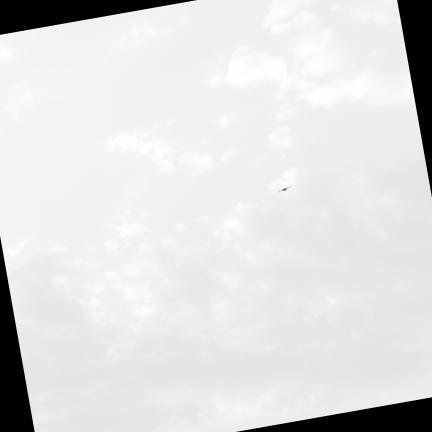Shahed: (279, 186, 291, 191)
